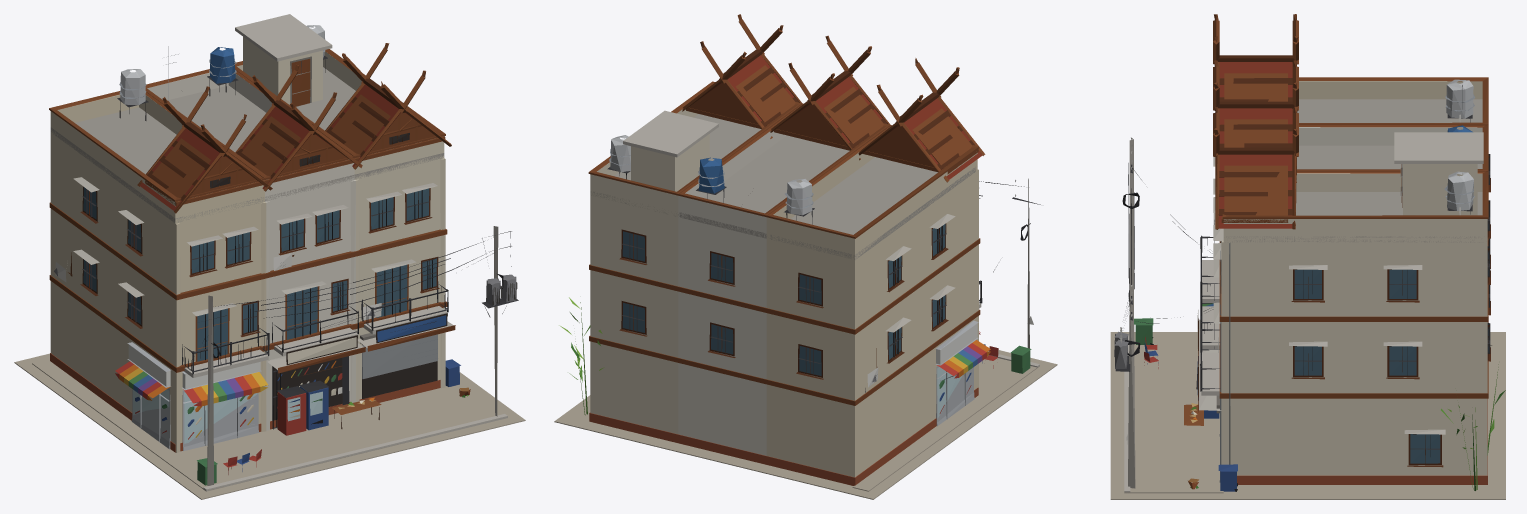
Rendered from shop_3.glb.
The picture shows the model from 3 angles, left to right: view 1: azimuth 30°, elevation 25°; view 2: azimuth 150°, elevation 25°; view 3: azimuth 270°, elevation 25°; orthographic projection. The views are drawn at different scales.
Visible parts, largest first — view 1: body, windows; view 2: body, windows; view 3: body, windows.
Boxes of the visible parts, x1,y1,x2,y2 form: body: [14, 14, 525, 499]; windows: [83, 133, 437, 420]; body: [554, 14, 1057, 499]; windows: [622, 224, 945, 375]; body: [1110, 14, 1505, 499]; windows: [1294, 221, 1488, 463].
Bounding box in the file's own units: 16.46 × 15.53 × 17.14.
